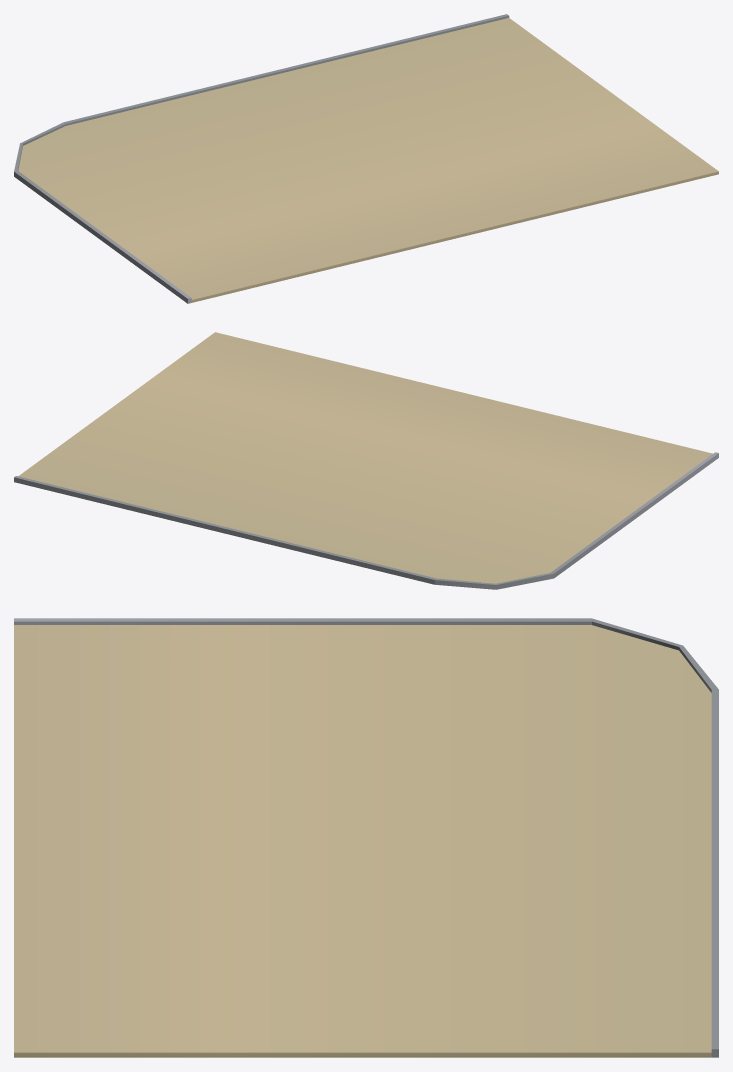
File: sidewalk_35.fbx
3 views of the same model, one above another, from view 1: azimuth 30°, elevation 25°; view 2: azimuth 150°, elevation 25°; view 3: azimuth 270°, elevation 25° (orthographic). The views are drawn at different scales.
Visible parts, largest first — view 1: sidewalk_34; view 2: sidewalk_34; view 3: sidewalk_34.
Part boxes in pixels (<box>): sidewalk_34: <box>14,14,718,303</box>; sidewalk_34: <box>14,332,718,589</box>; sidewalk_34: <box>14,618,718,1057</box>.
Size of the model in its own units: 2.63 by 0.0237 by 1.82.
Materials: 1 (1 with a texture image).
